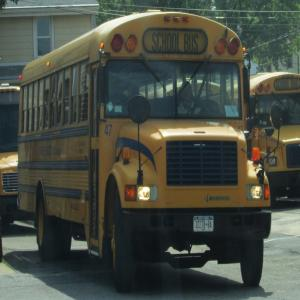Vehicle-registration-plate: (193, 216, 216, 234)
